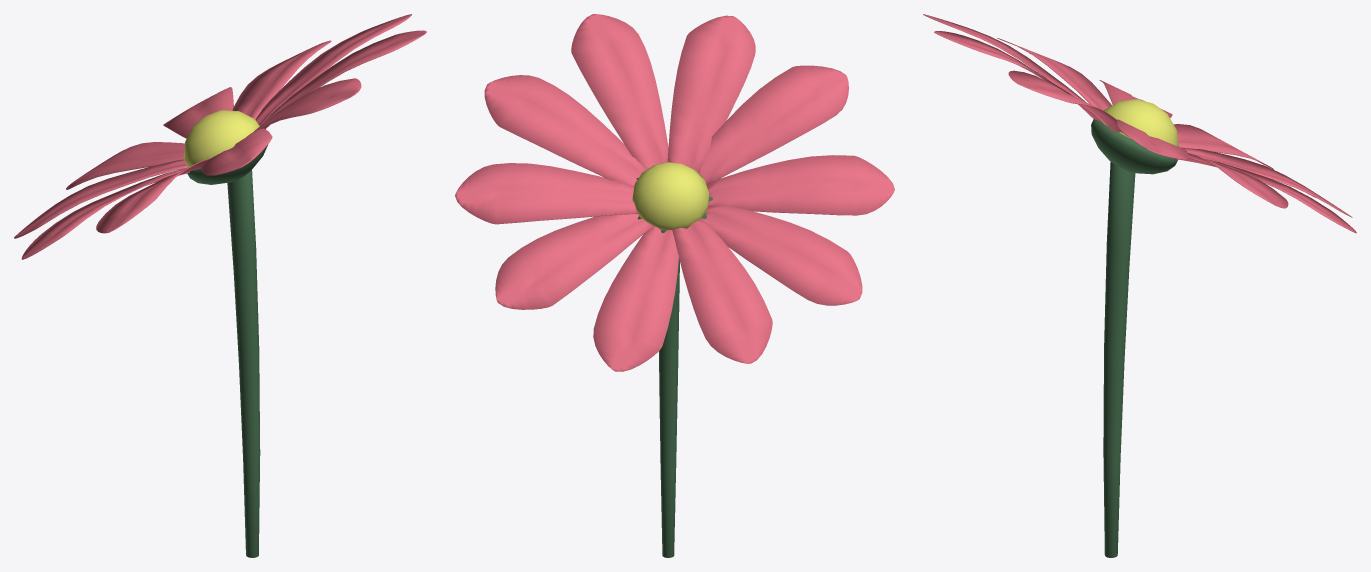
The model's file is marguerite.rose.fbx.
3 renders of one model, left to right at view 1: azimuth 30°, elevation 25°; view 2: azimuth 150°, elevation 25°; view 3: azimuth 270°, elevation 25°, orthographic. The views are drawn at different scales.
Parts seen in each view (by area): view 1: Stengel 01, Sphere03, Line27, Line30, Line29, Line21, Line22, Line23, Line26, Line24, Line25, Line28 (+1 smaller); view 2: Line22, Line24, Line26, Line25, Line27, Line21, Line23, Line30, Line29, Line28, Stengel 01, Sphere03; view 3: Stengel 01, Cylinder05, Sphere03, Line29, Line22, Line24, Line30, Line28, Line21, Line25, Line26, Line27.
Boxes of the visible parts, bbox=[...] form: Stengel 01: bbox=[227, 170, 260, 557]; Sphere03: bbox=[183, 110, 259, 167]; Line27: bbox=[255, 14, 411, 126]; Line30: bbox=[14, 159, 188, 238]; Line29: bbox=[66, 142, 184, 189]; Line21: bbox=[232, 40, 331, 119]; Line22: bbox=[262, 30, 426, 128]; Line23: bbox=[21, 168, 189, 259]; Line26: bbox=[247, 78, 361, 136]; Line24: bbox=[96, 157, 212, 233]; Line25: bbox=[201, 128, 272, 175]; Line28: bbox=[163, 87, 233, 138]; Line22: bbox=[571, 14, 668, 169]; Line24: bbox=[706, 155, 894, 215]; Line26: bbox=[667, 15, 755, 172]; Line25: bbox=[698, 65, 848, 183]; Line27: bbox=[484, 75, 646, 185]; Line21: bbox=[455, 163, 638, 224]; Line23: bbox=[702, 205, 862, 305]; Line30: bbox=[672, 218, 772, 363]; Line29: bbox=[593, 226, 678, 371]; Line28: bbox=[495, 214, 653, 309]; Stengel 01: bbox=[659, 258, 679, 557]; Sphere03: bbox=[632, 162, 709, 230]; Stengel 01: bbox=[1103, 162, 1135, 557]; Cylinder05: bbox=[1091, 119, 1177, 174]; Sphere03: bbox=[1100, 99, 1178, 146]; Line29: bbox=[1182, 148, 1352, 217]; Line22: bbox=[1008, 70, 1127, 136]; Line24: bbox=[997, 38, 1111, 110]; Line30: bbox=[1173, 124, 1273, 169]; Line28: bbox=[1176, 157, 1356, 233]; Line21: bbox=[1188, 153, 1288, 208]; Line25: bbox=[923, 14, 1093, 118]; Line26: bbox=[934, 31, 1100, 120]; Line27: bbox=[1117, 119, 1188, 159].
Size of the model in its own units: 89.53 by 113 by 82.88.
